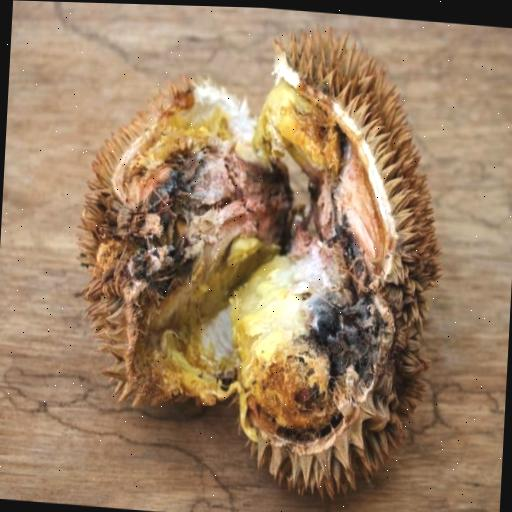rot: (20, 1, 512, 512)
